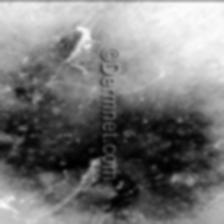Potentially Malignant Skin Tumors: (115, 80, 224, 220)
